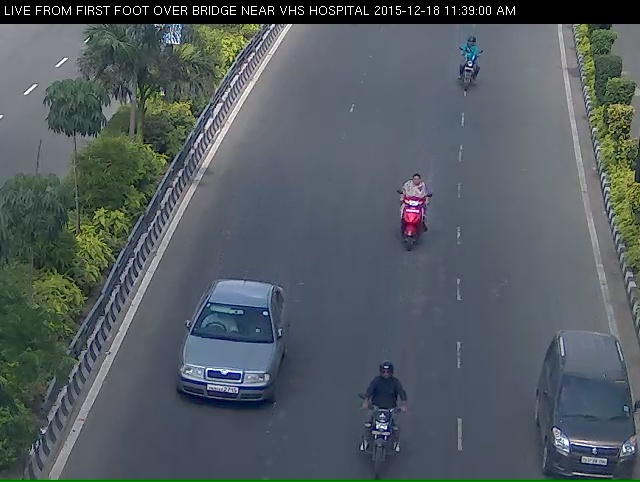Car: (175, 298, 304, 437), (537, 342, 632, 480)
Person: (352, 396, 404, 482), (390, 174, 428, 279), (450, 42, 484, 103)
